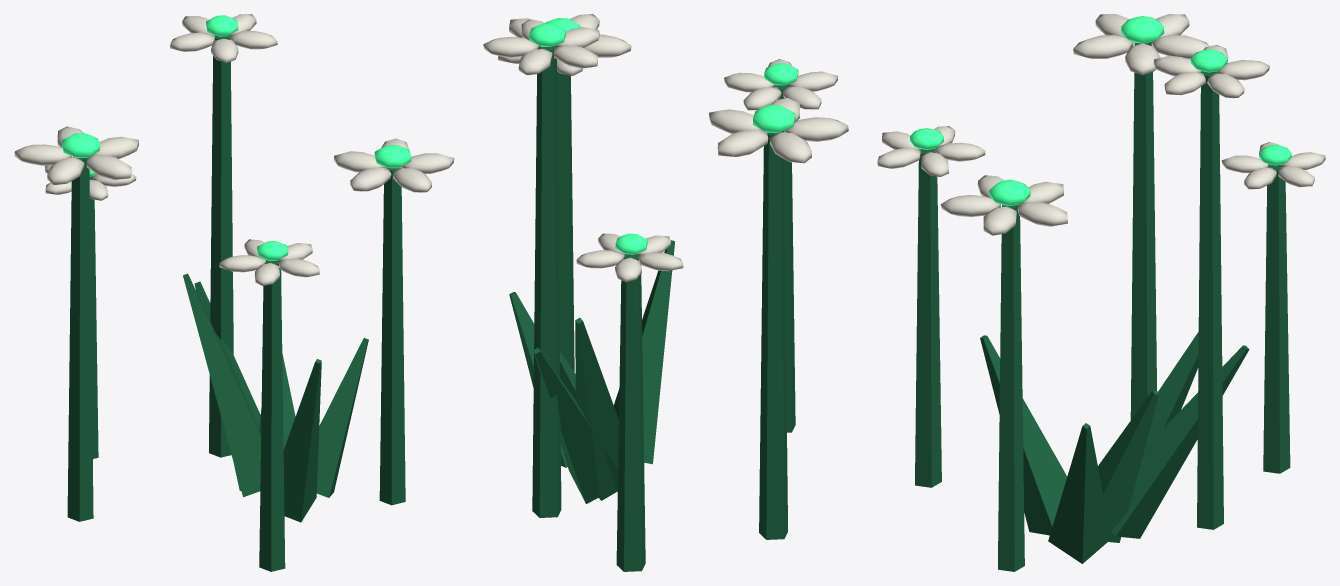
The model's file is prop-flowers.glb.
3 views of the same model, side by side, from view 1: azimuth 30°, elevation 25°; view 2: azimuth 150°, elevation 25°; view 3: azimuth 270°, elevation 25° (orthographic). The views are drawn at different scales.
Parts seen in each view (by area): view 1: prop-flowers; view 2: prop-flowers; view 3: prop-flowers.
Part boxes in pixels (left/top/right/bottom): prop-flowers: left=14, top=14, right=454, bottom=571; prop-flowers: left=483, top=14, right=848, bottom=571; prop-flowers: left=877, top=14, right=1325, bottom=571.
Size of the model in its own units: 0.133 by 0.1624 by 0.1351.
